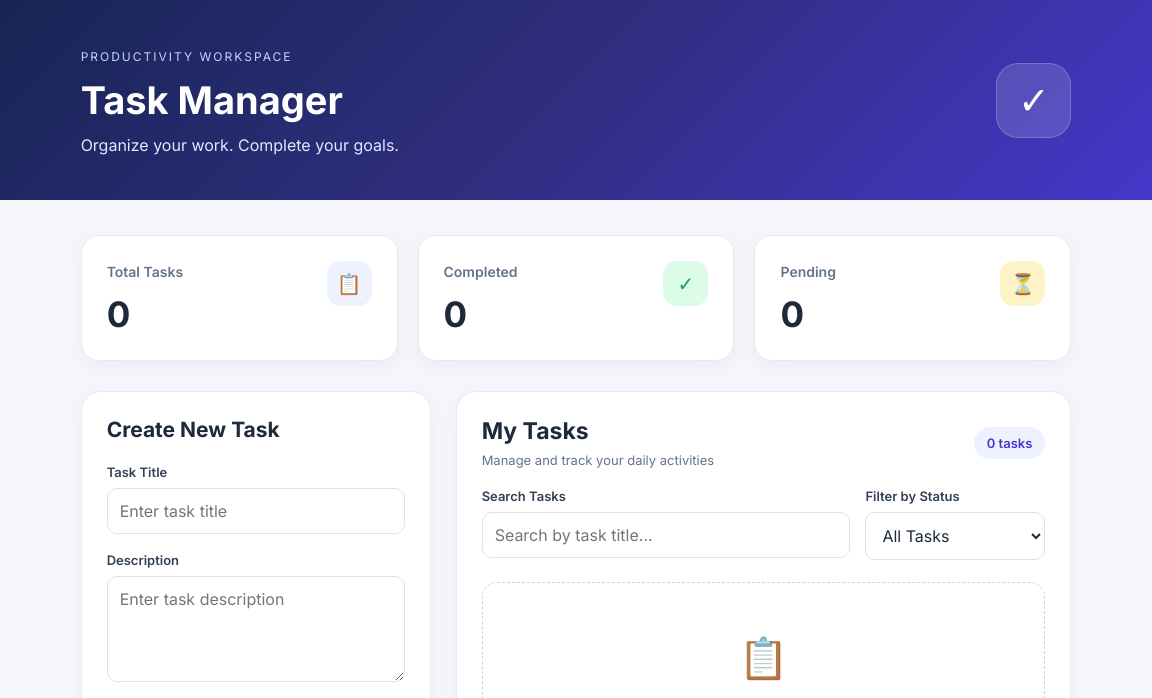
Test: Task Manager Integration Tests › deletes a task and updates total count
Type "Delete Me" into the field labelled "Task Title" at [256, 511], box [107,488,405,534]
(page scrolled)
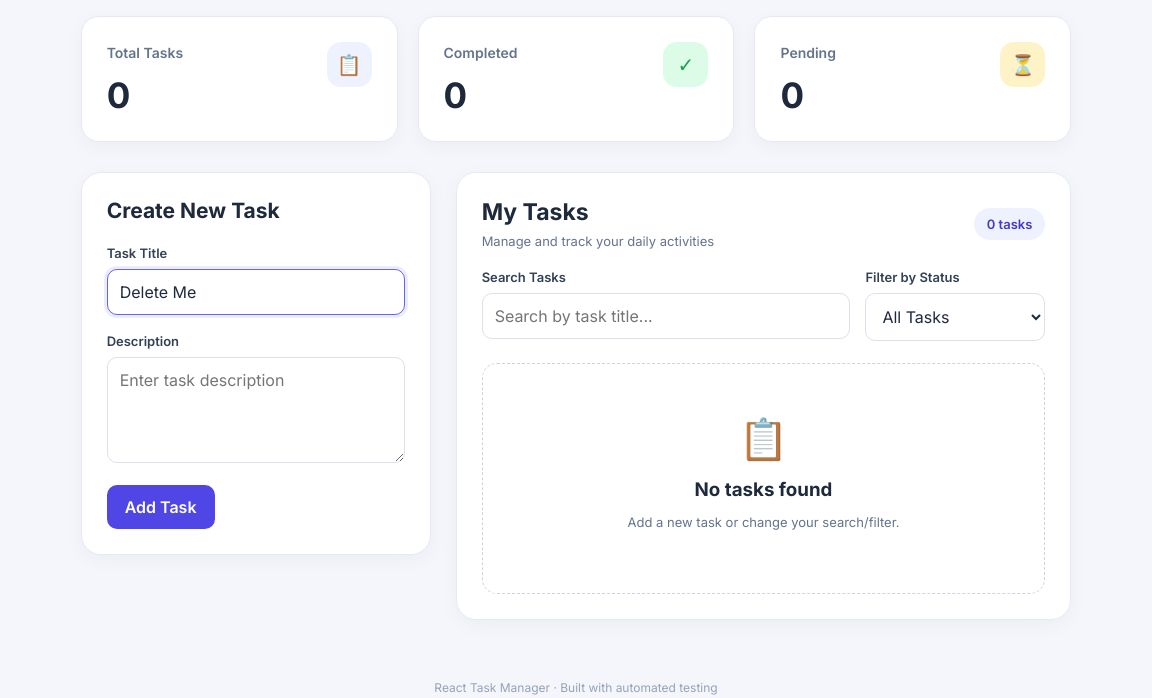
Click the button "Add Task" at [161, 507], box [107,485,214,529]
(page scrolled)
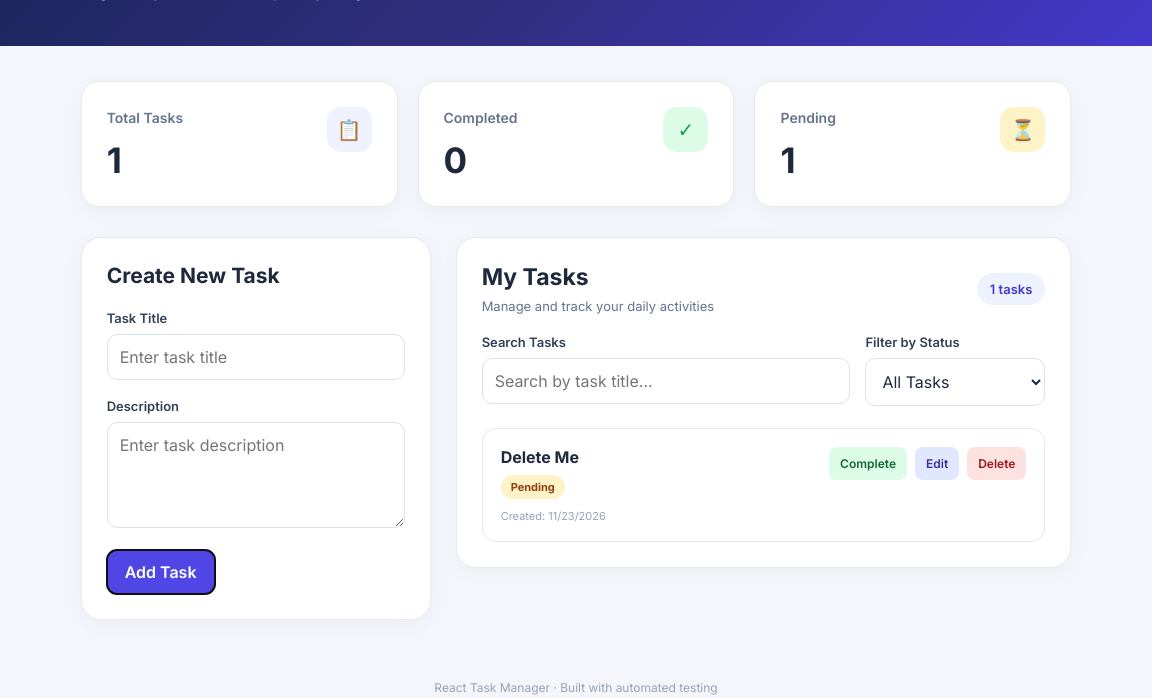
Click the button with aria-label "delete delete me" at [997, 464], box [967,447,1026,480]
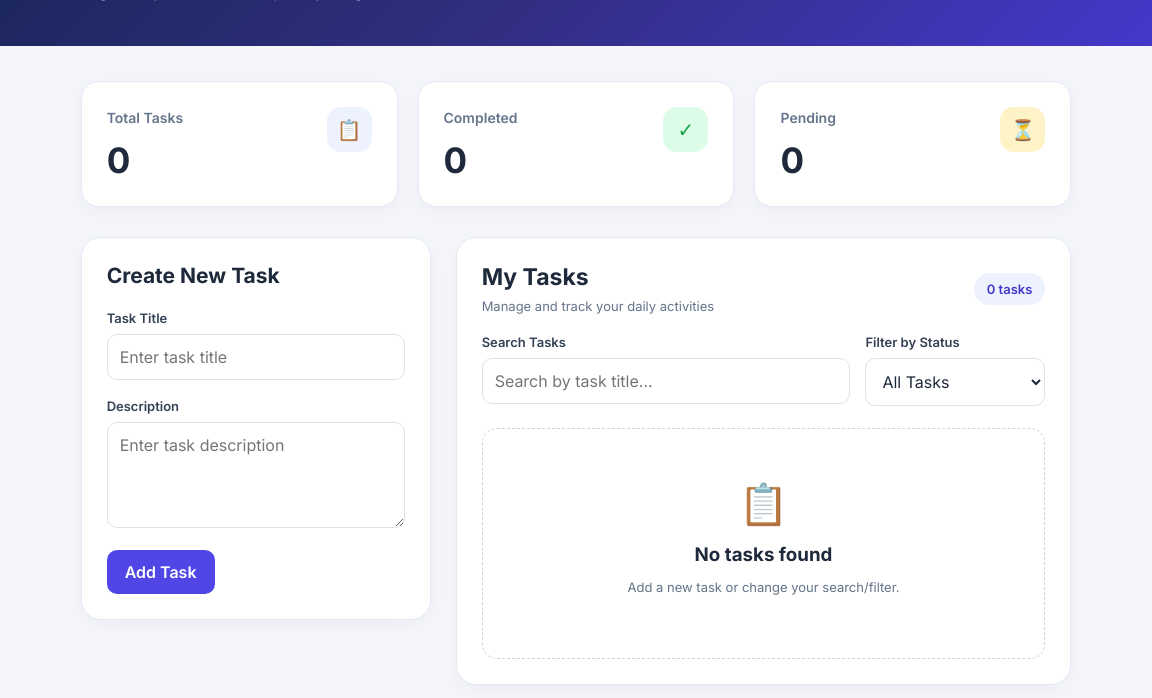
Result: the heading "Delete Me" is gone
